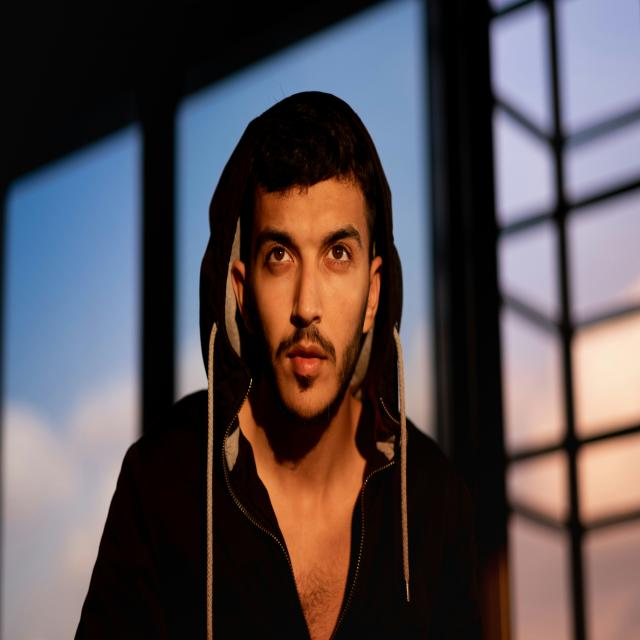human: (73, 86, 486, 640)
